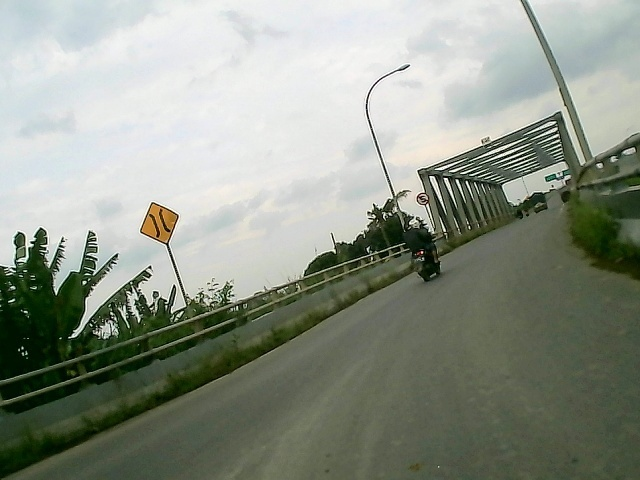Dilarang berhenti: (414, 190, 431, 208)
Jembatan: (136, 198, 184, 247)
